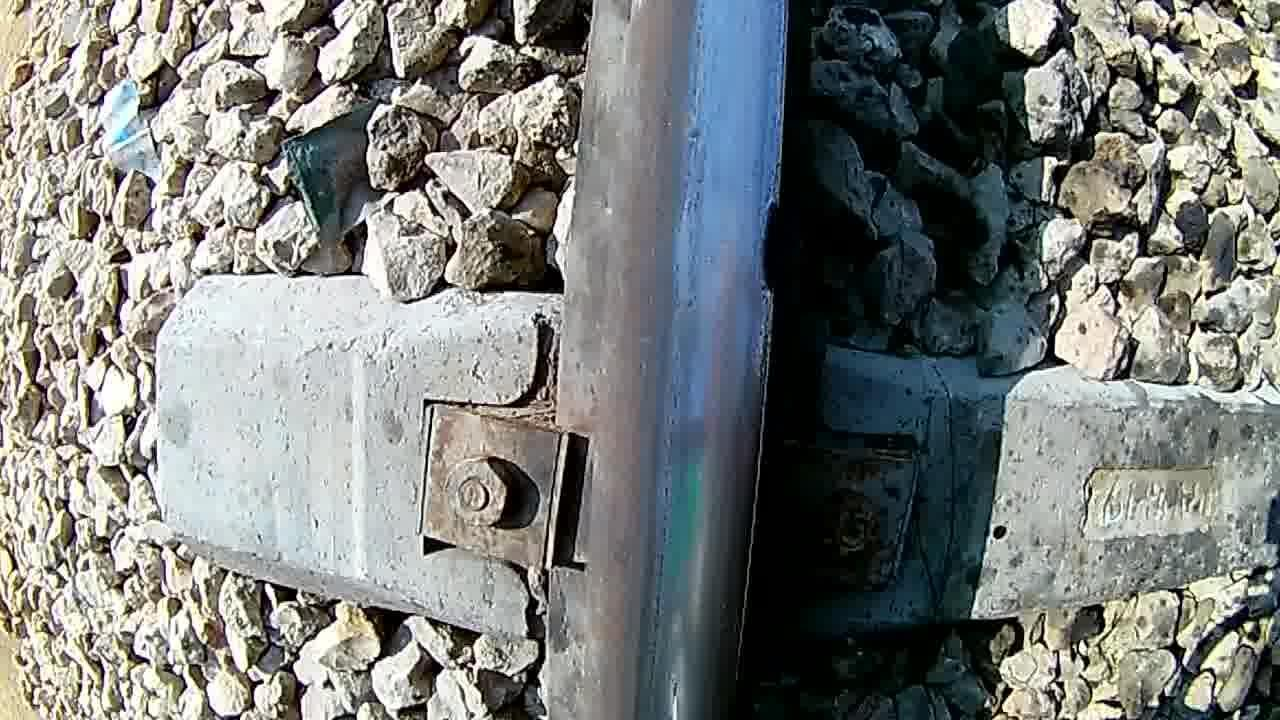crack: (574, 0, 790, 720)
